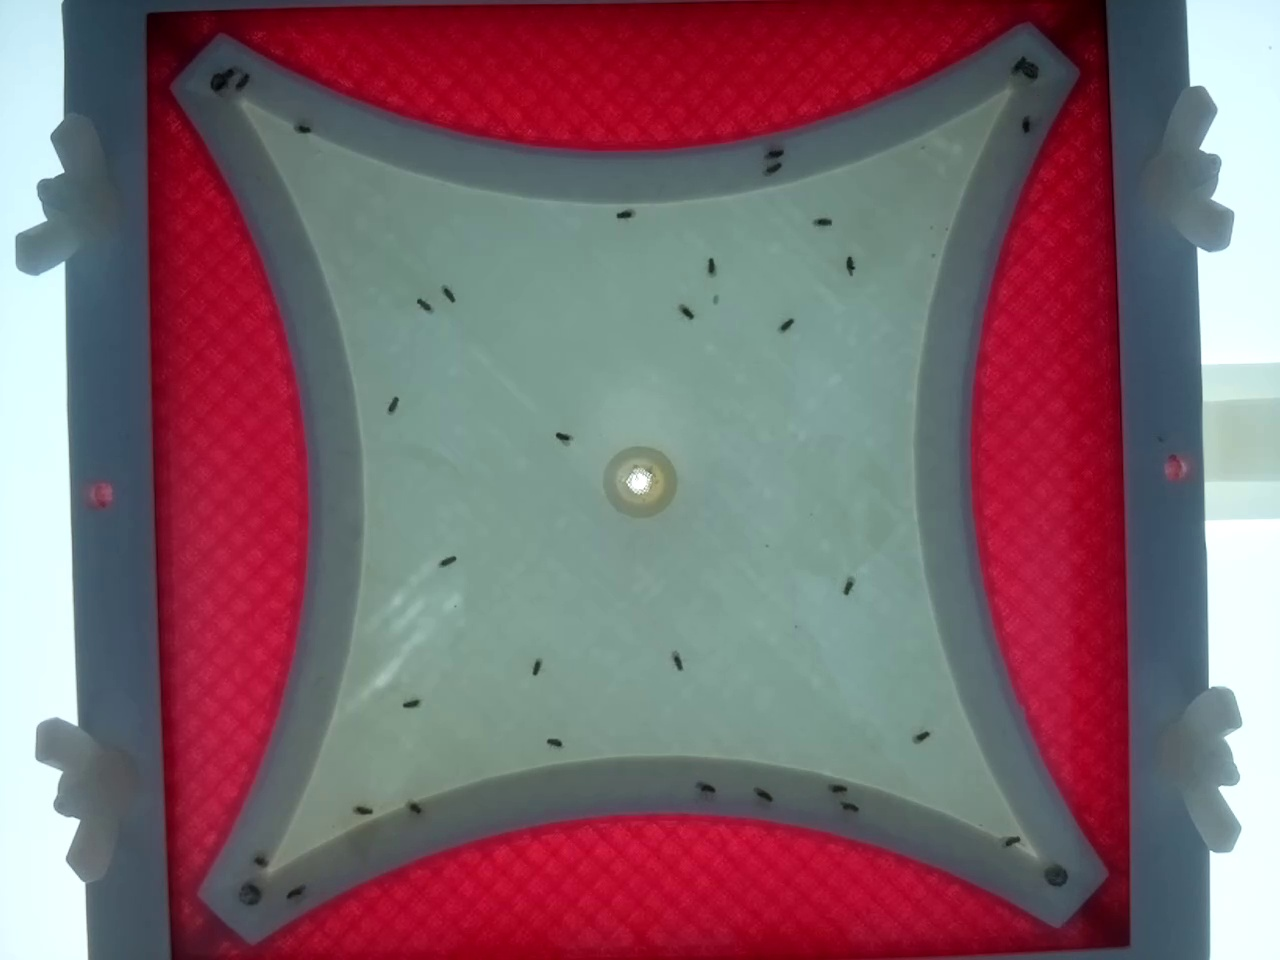fly: (230, 67, 255, 92), (1011, 114, 1036, 139), (612, 202, 637, 227), (836, 252, 861, 277), (210, 65, 235, 90), (773, 312, 798, 337), (290, 115, 315, 140), (768, 140, 793, 165), (380, 392, 405, 417), (550, 424, 575, 449), (835, 577, 860, 602), (908, 724, 933, 749), (541, 730, 566, 755), (402, 796, 427, 821), (836, 794, 861, 819), (348, 797, 373, 822), (245, 847, 270, 872), (755, 782, 780, 807), (399, 690, 424, 715), (238, 874, 263, 899), (997, 829, 1022, 854), (1007, 49, 1032, 74), (758, 157, 783, 182), (811, 207, 836, 232), (699, 255, 724, 280), (412, 292, 437, 317), (674, 299, 699, 324), (434, 548, 459, 573), (524, 654, 549, 679), (665, 653, 690, 678), (283, 880, 308, 905), (435, 282, 460, 307), (693, 775, 718, 800), (825, 774, 850, 799)
